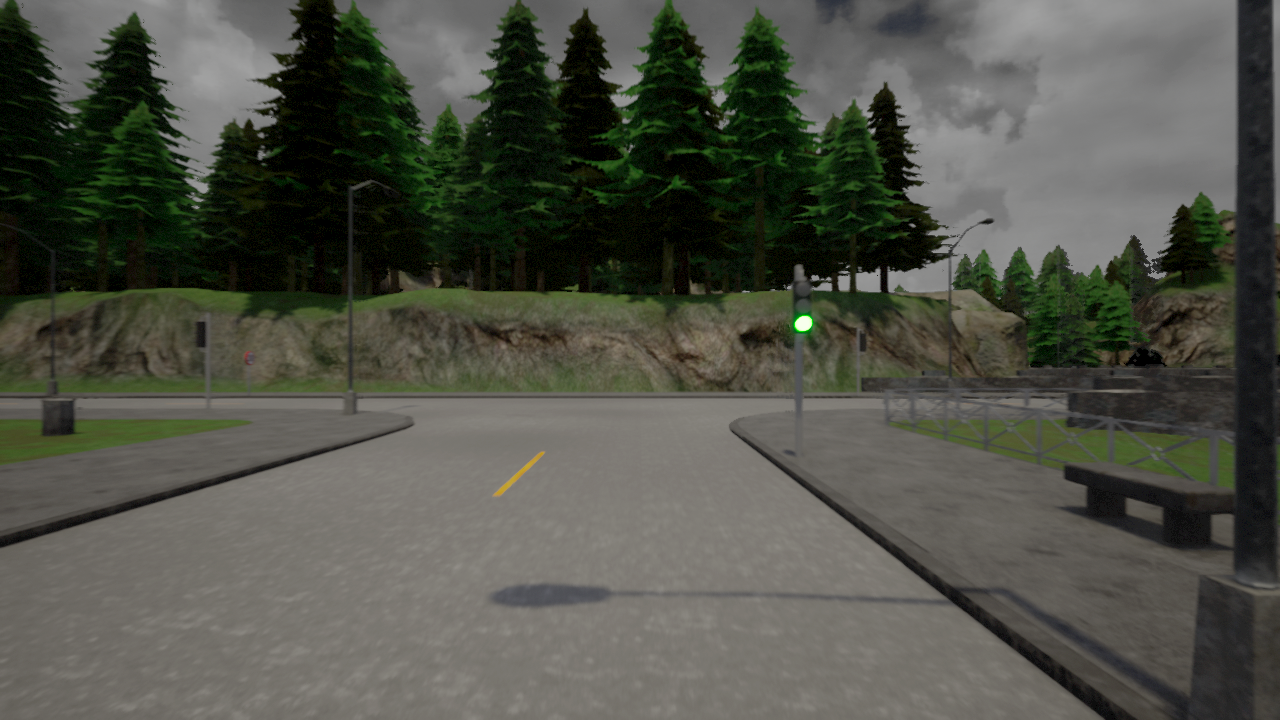green: (794, 280, 811, 332)
